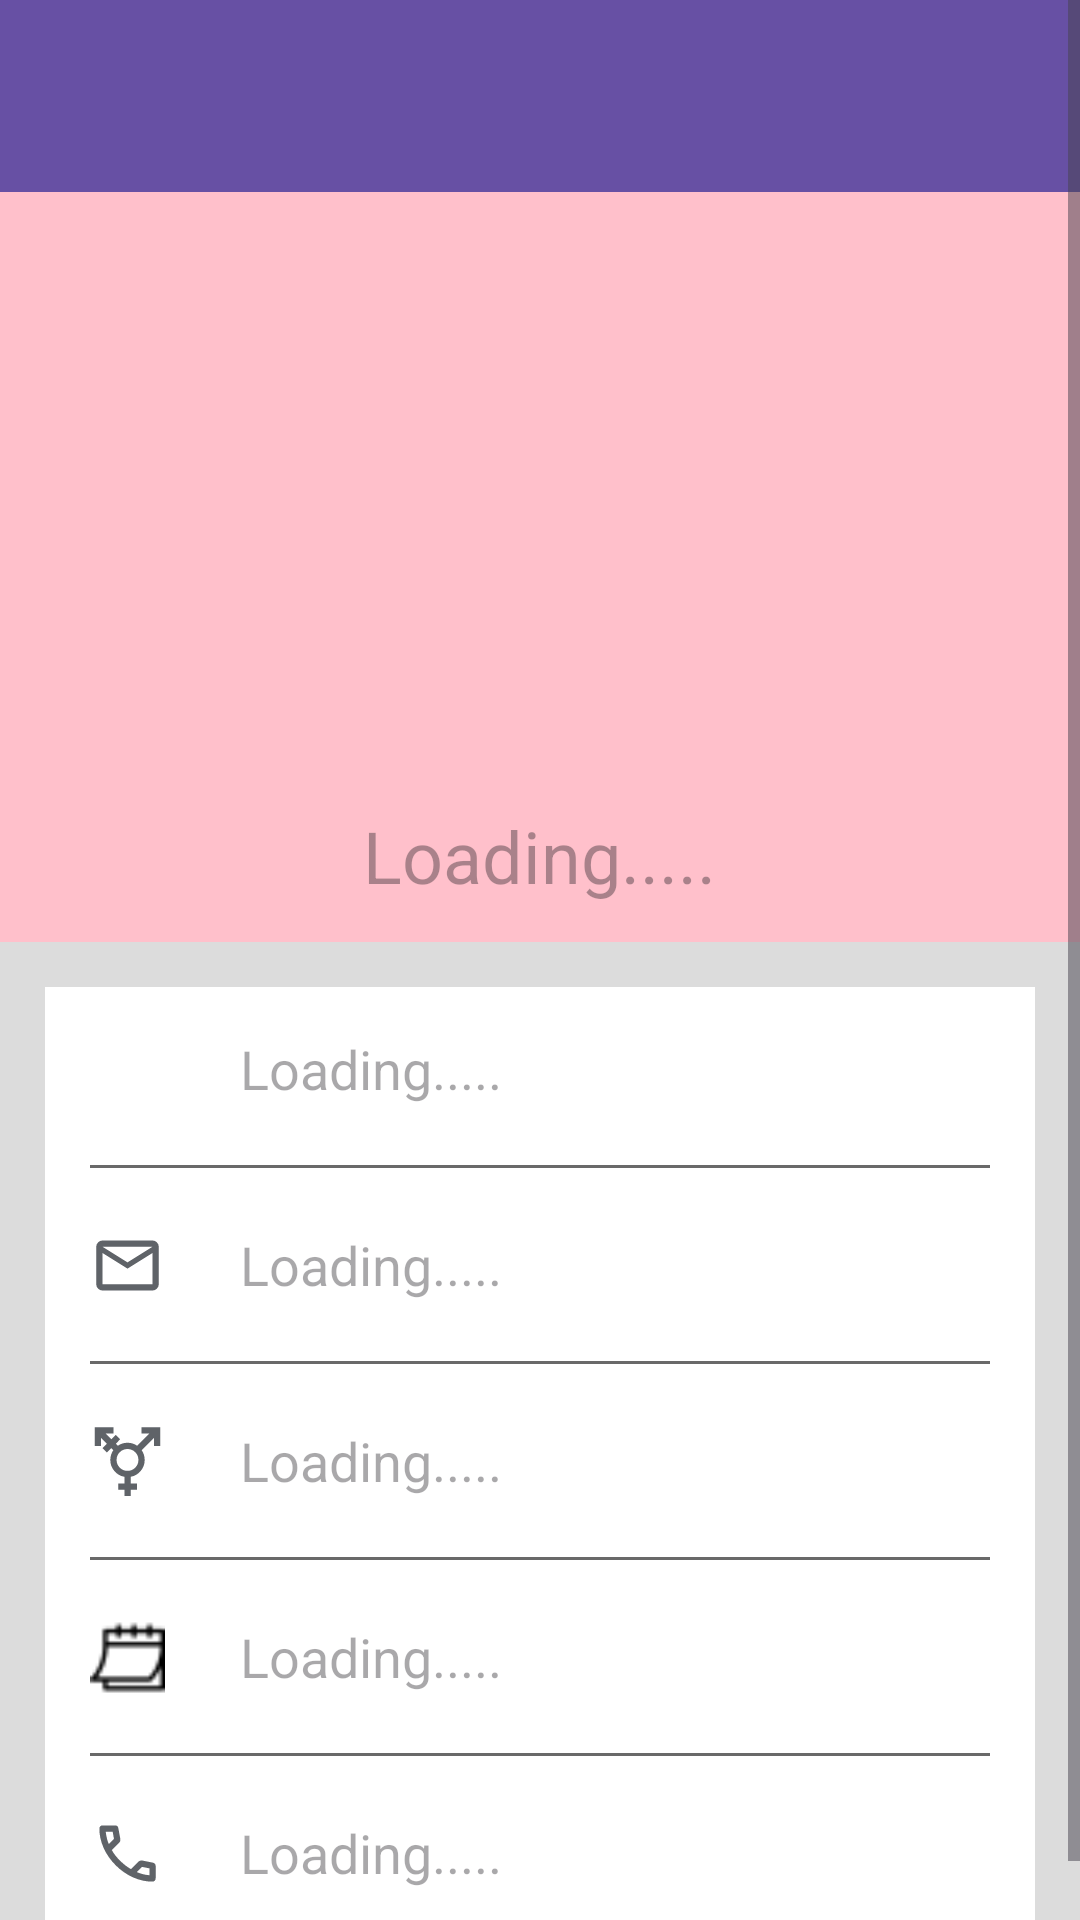

Icon bounding boxes for this 1080 x 1920 phone screenshot, format BBox(x1, y1, x2, y2):
call: BBox(99, 1825, 156, 1882)
date: BBox(90, 1622, 165, 1693)
mail: BBox(96, 1240, 159, 1291)
transgender: BBox(94, 1427, 161, 1496)
